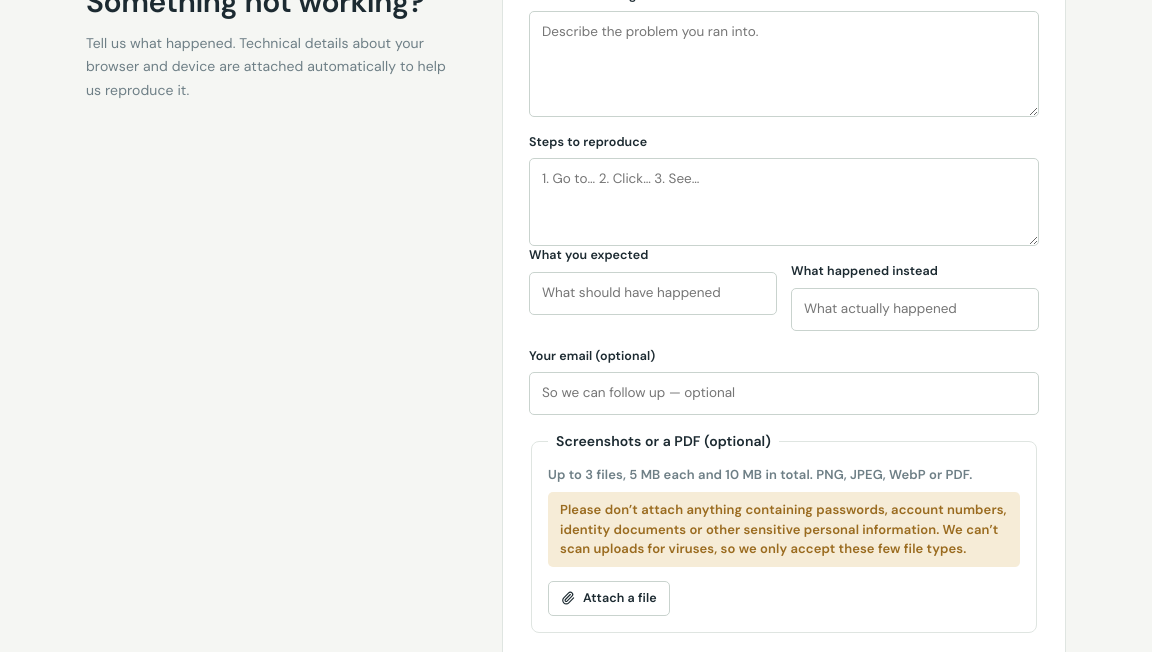
Test case: ReportBugPage › requires the consent confirmation before it will submit
This screenshot has width=1152, height=652.
Type "The pagination resets my filters on mobile." into the text box with placeholder "Describe the problem you ran into.". click: (784, 64)
box: [529,11,1039,117]
(page scrolled)
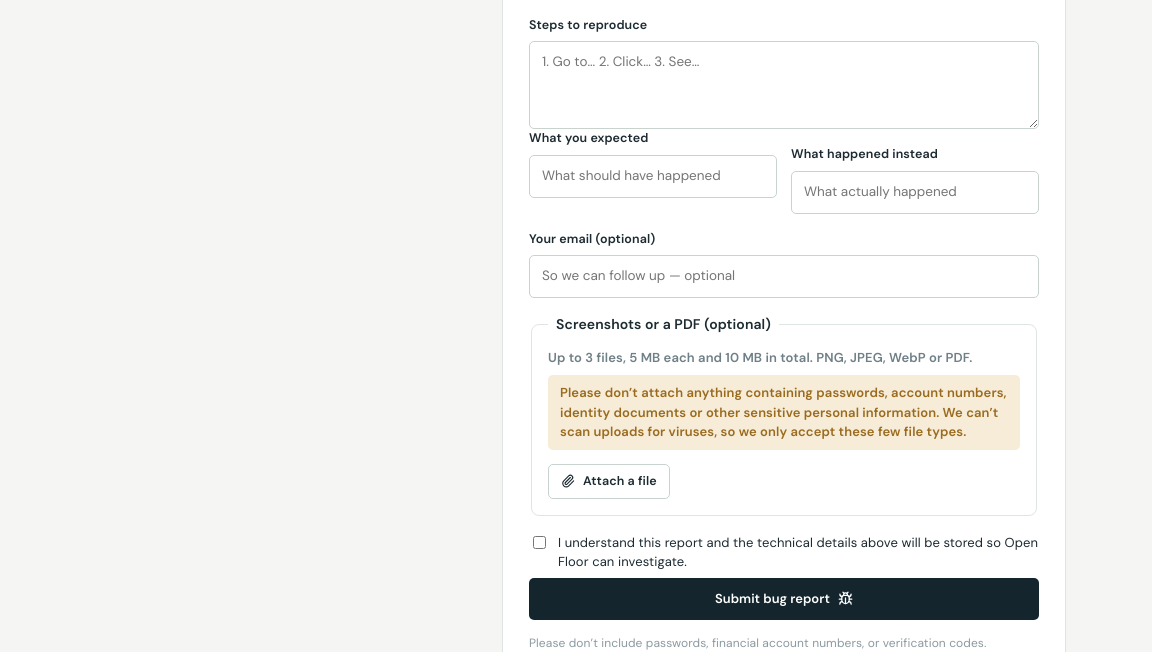
Click the button "Submit bug report". click: (784, 599)
box: [529,578,1039,620]
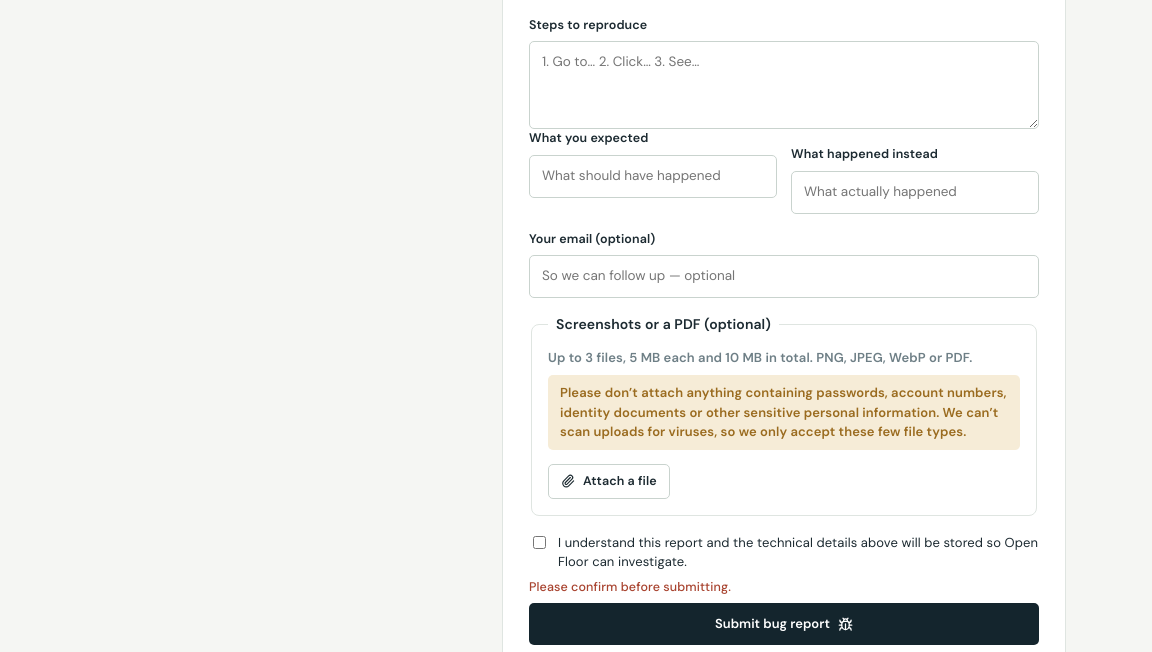
Expected: the text "Please confirm before submitting." is shown, [529,579,731,595]
